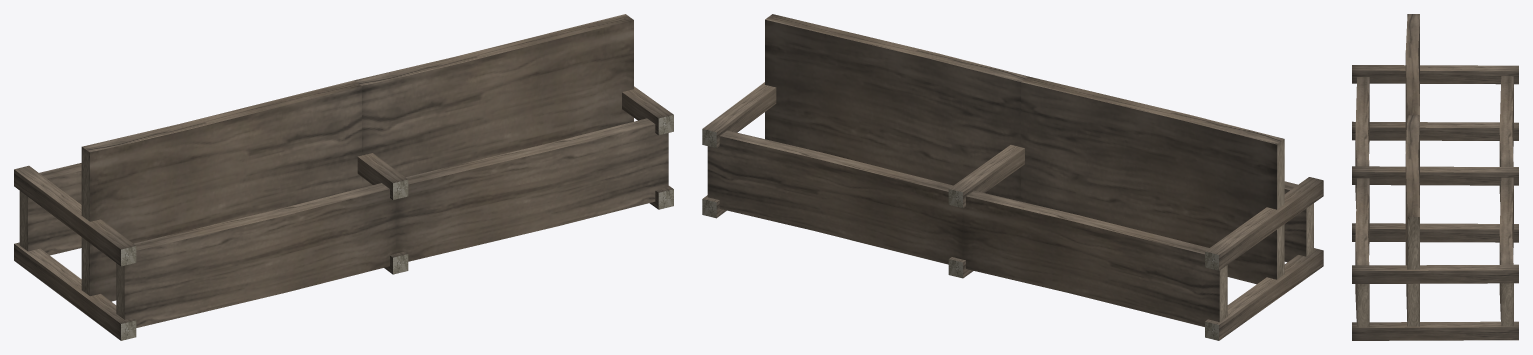
File: Counter_Type_02_F.fbx
3 views of the same model, side by side, from view 1: azimuth 30°, elevation 25°; view 2: azimuth 150°, elevation 25°; view 3: azimuth 270°, elevation 25° (orthographic). The views are drawn at different scales.
Visible parts, largest first — view 1: Counter_Type_02_F; view 2: Counter_Type_02_F; view 3: Counter_Type_02_F.
Boxes of the visible parts, box(x1,y1,x2,y2) form: Counter_Type_02_F: box(14, 14, 673, 340); Counter_Type_02_F: box(702, 14, 1323, 340); Counter_Type_02_F: box(1352, 14, 1518, 340).
Size of the model in its own units: 6.64 by 1.84 by 2.27.
